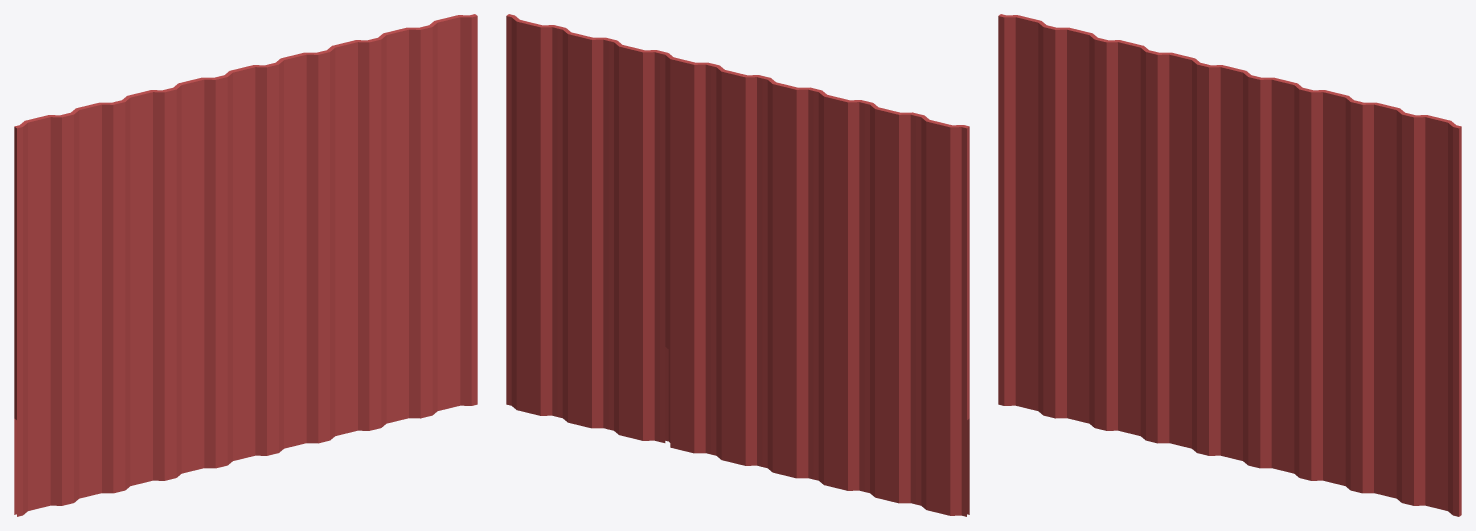
Rendered from Fence 4.fbx.
3 views of the same model, side by side, from view 1: azimuth 30°, elevation 25°; view 2: azimuth 150°, elevation 25°; view 3: azimuth 330°, elevation 25° (orthographic).
Parts seen in each view (by area): view 1: Fence 4; view 2: Fence 4; view 3: Fence 4.
Boxes of the visible parts, x1,y1,x2,y2 form: Fence 4: (14, 14, 477, 516); Fence 4: (506, 14, 969, 516); Fence 4: (998, 14, 1461, 516).
Bounding box in the file's own units: 479 × 386 × 10.49.
